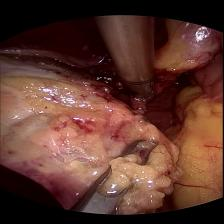Clipper: (119, 76, 165, 107)
Grasper: (59, 133, 173, 210)
